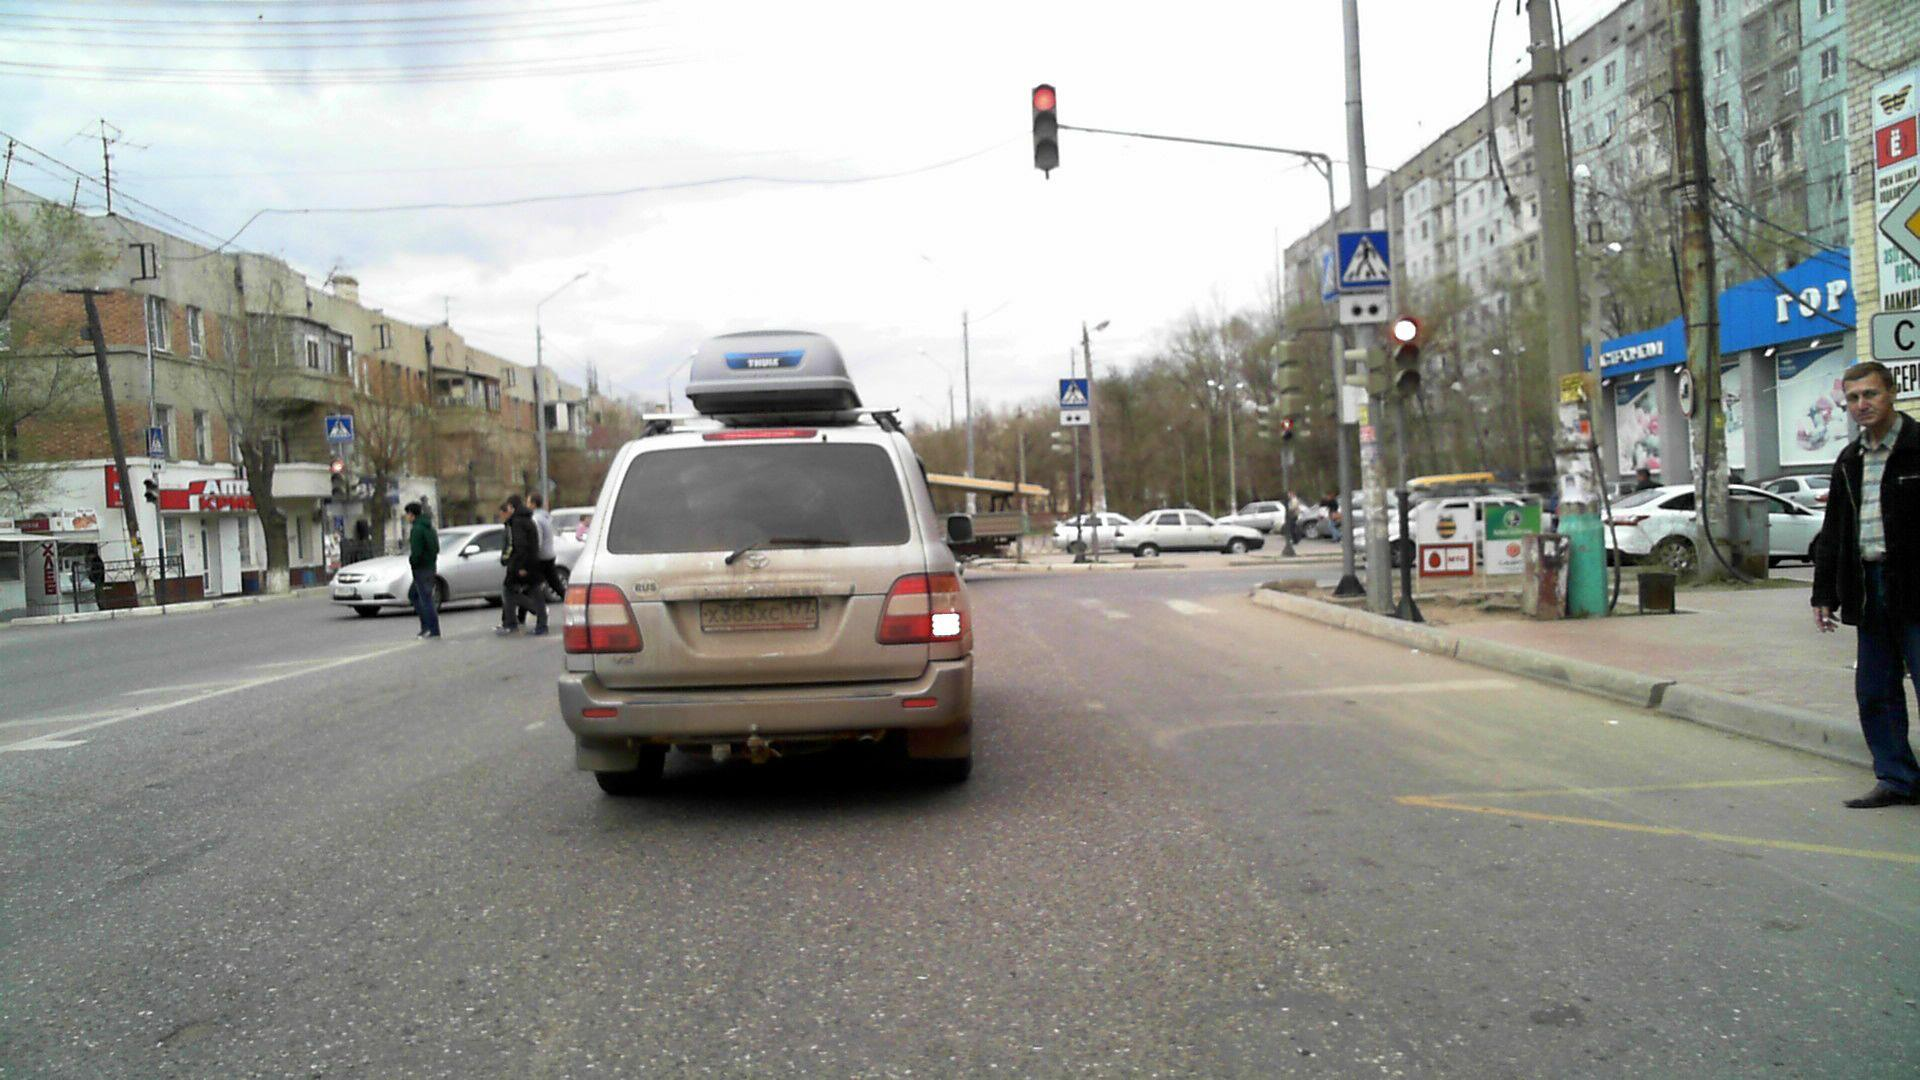2_1: (1875, 166, 1920, 266)
5_19_1: (1336, 231, 1391, 286), (1058, 378, 1091, 409)
5_19_2: (324, 415, 356, 442), (148, 427, 164, 452)
6_16: (1870, 315, 1920, 360)
8_15: (1340, 297, 1391, 324), (1060, 410, 1092, 427), (149, 459, 166, 472)
